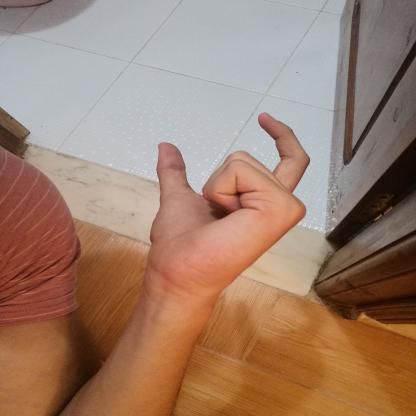NOON: (129, 102, 321, 303)
